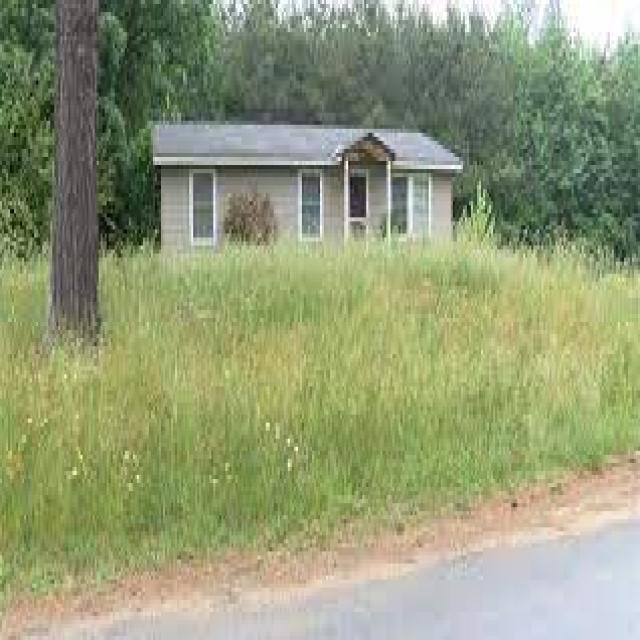House: (149, 126, 464, 250)
